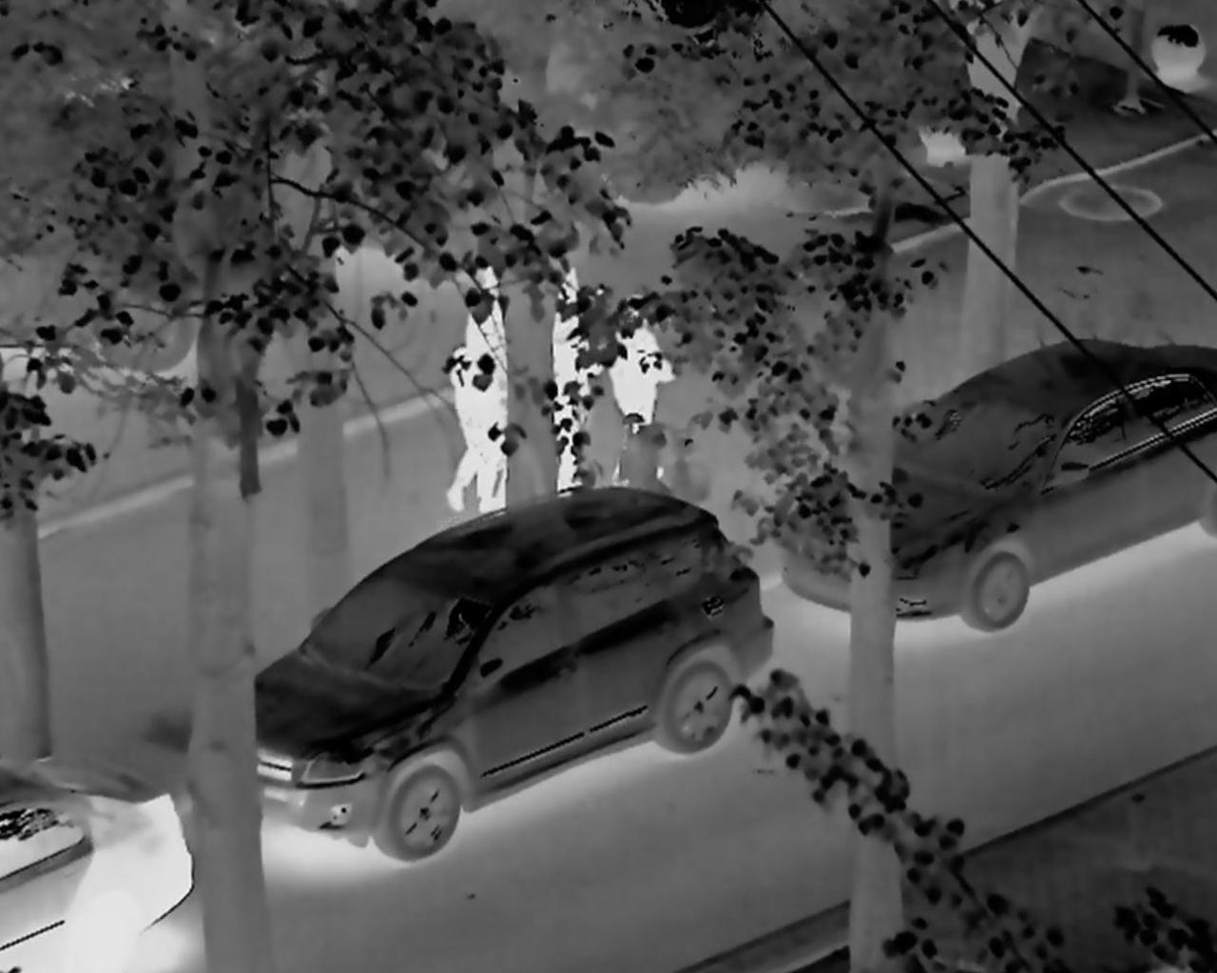person: (603, 287, 685, 481), (450, 278, 512, 517), (551, 272, 599, 509)
